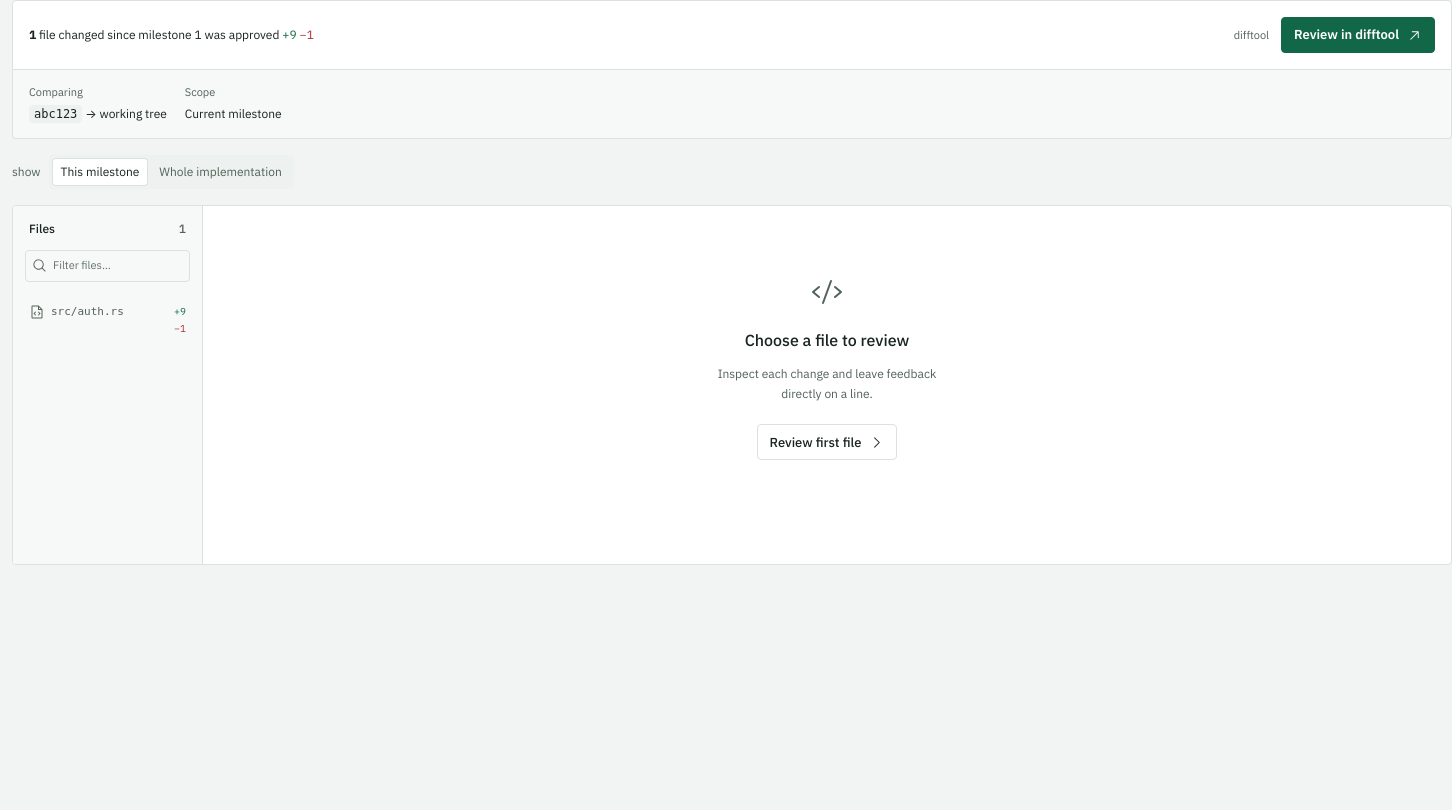
Test: switches scope and expands a file to show its diff
Check: the button named "Expand src/auth.rs" is shown, box left=21, top=294, right=194, bottom=346
Check: the text "1 file changed since milestone 1 was approved +9 −1" is shown, box left=29, top=27, right=314, bottom=42
Click the text "src/auth.rs".
click(87, 311)  # box left=51, top=305, right=124, bottom=318
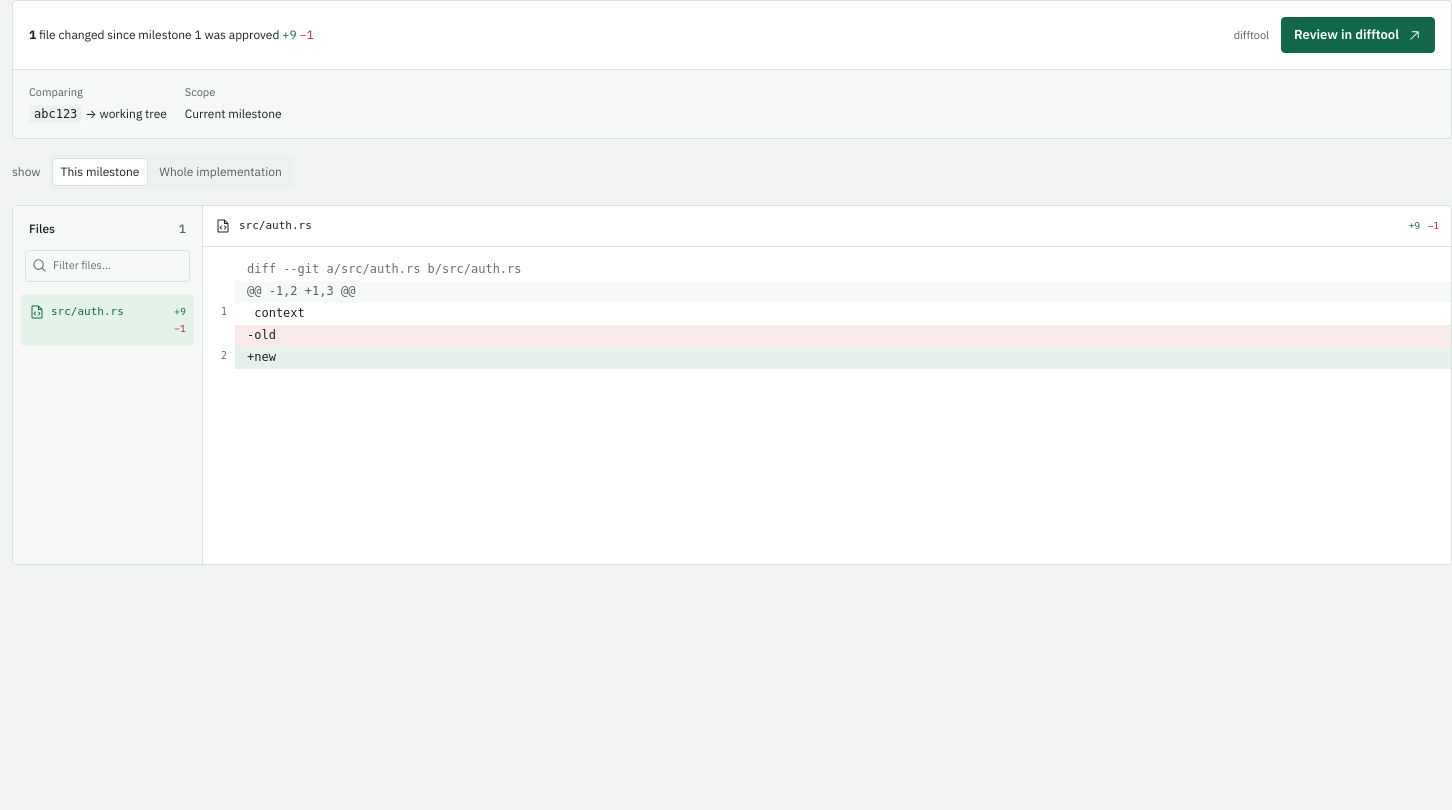
Check: the button named "Collapse src/auth.rs" is shown, box left=21, top=294, right=194, bottom=346
Click the tab "Whole implementation".
click(221, 172)  # box left=150, top=158, right=291, bottom=186
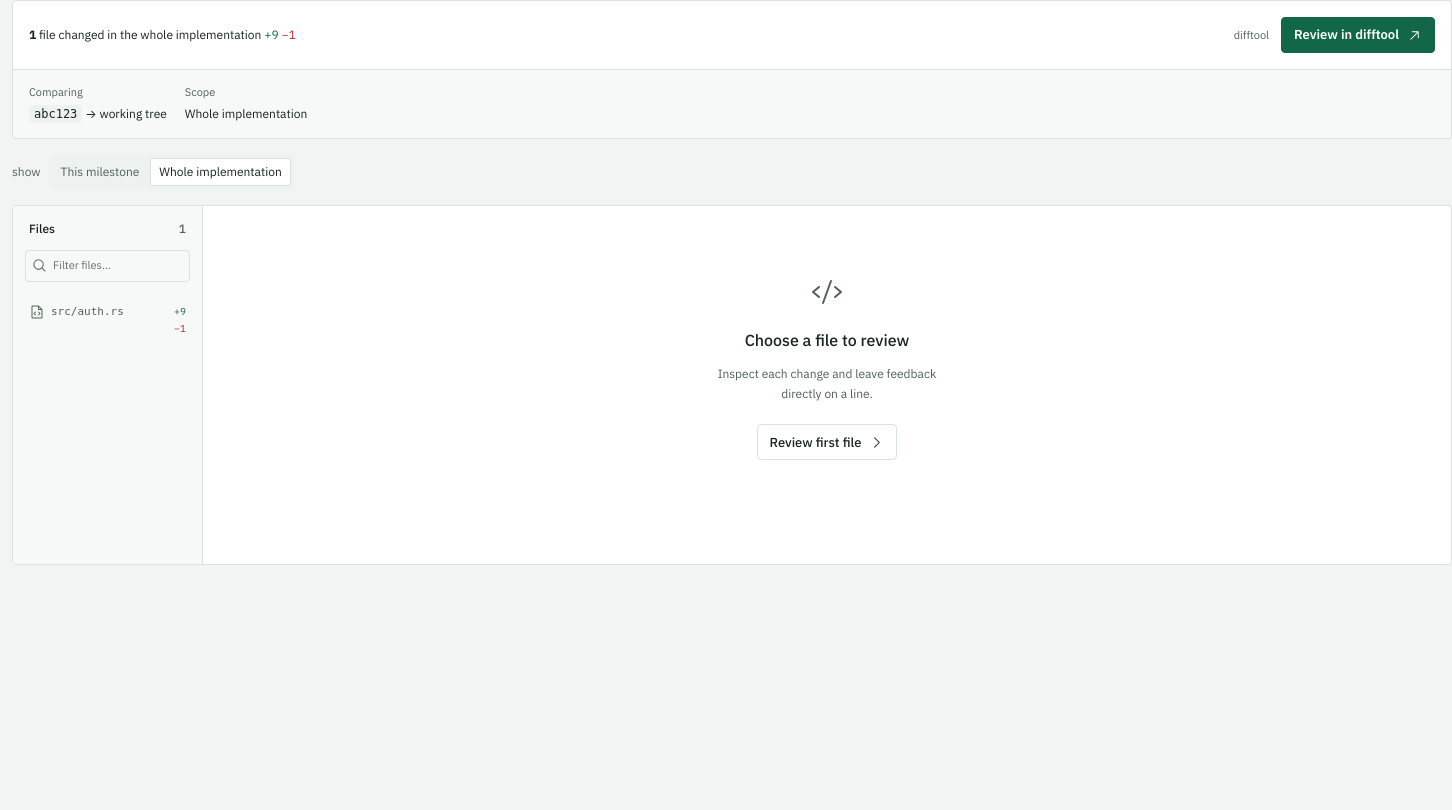
Check: the text "1 file changed in the whole implementation +9 −1" is shown, box left=29, top=27, right=296, bottom=42
Check: the text "+new" is gone
